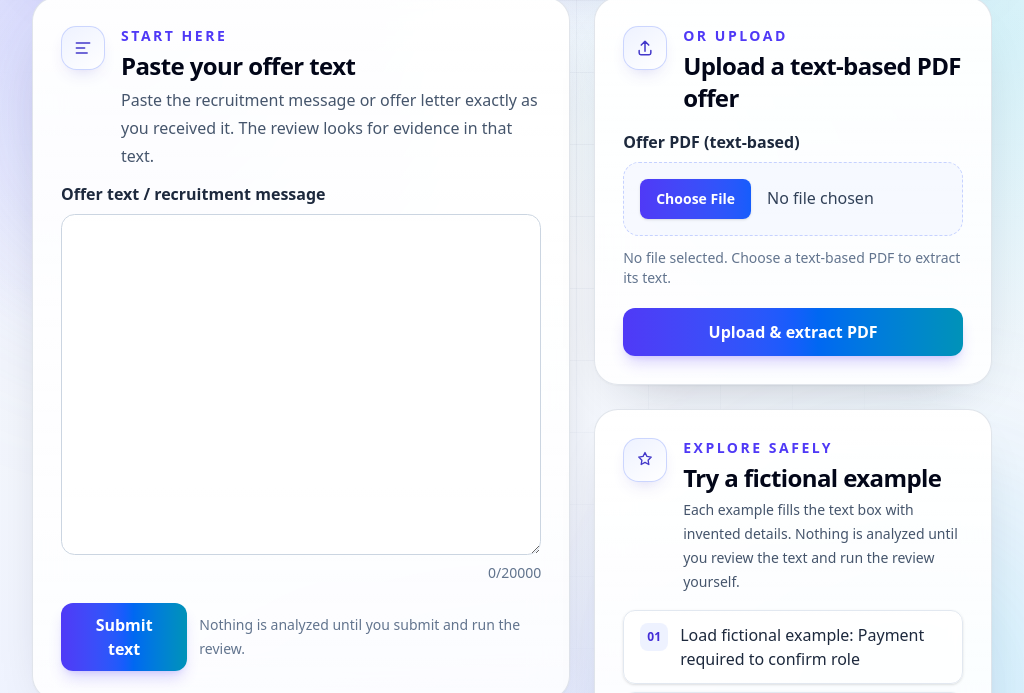
OfferShield review page › groups findings by category and shows the source label
(page scrolled)
In the text box labelled "Offer text / recruitment message": point(301, 385) [61,214,541,555], type "To confirm your acceptance, please pay the registration fee."
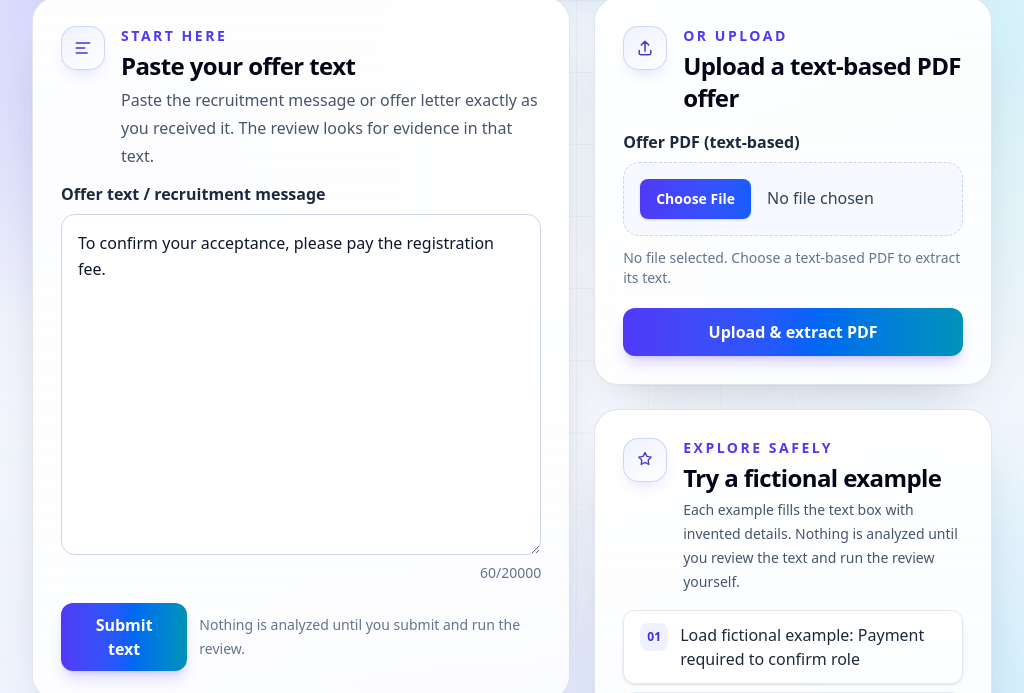
Click the button "Submit text": point(124, 637) [61,603,187,671]
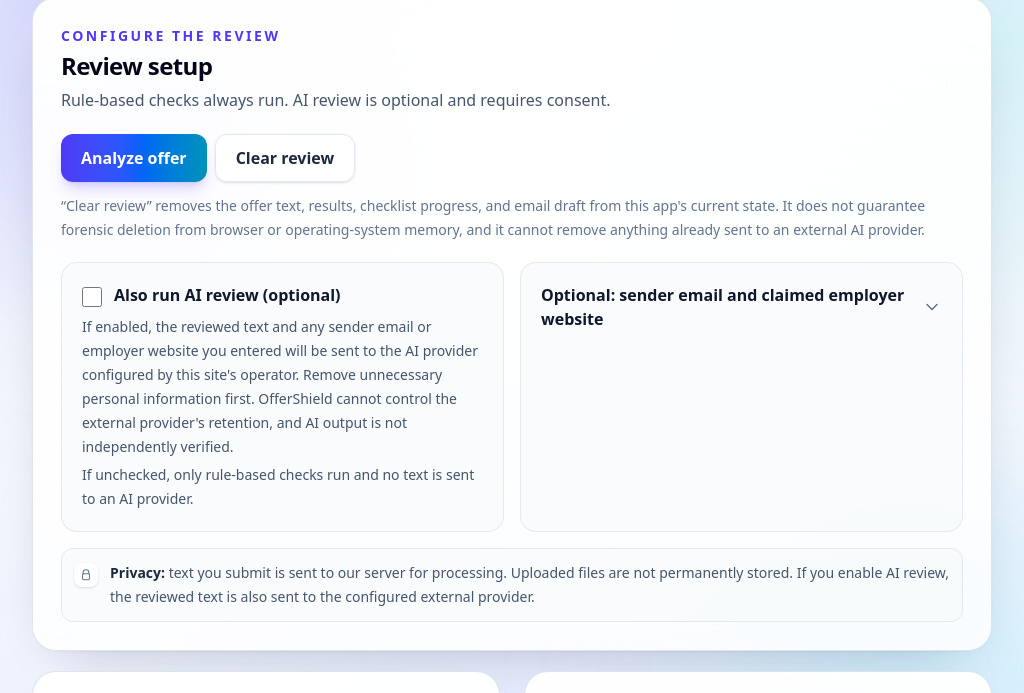
expect the button "Analyze offer" is shown: met
Click the button "Analyze offer": point(134, 158) [61,134,207,182]
(page scrolled)
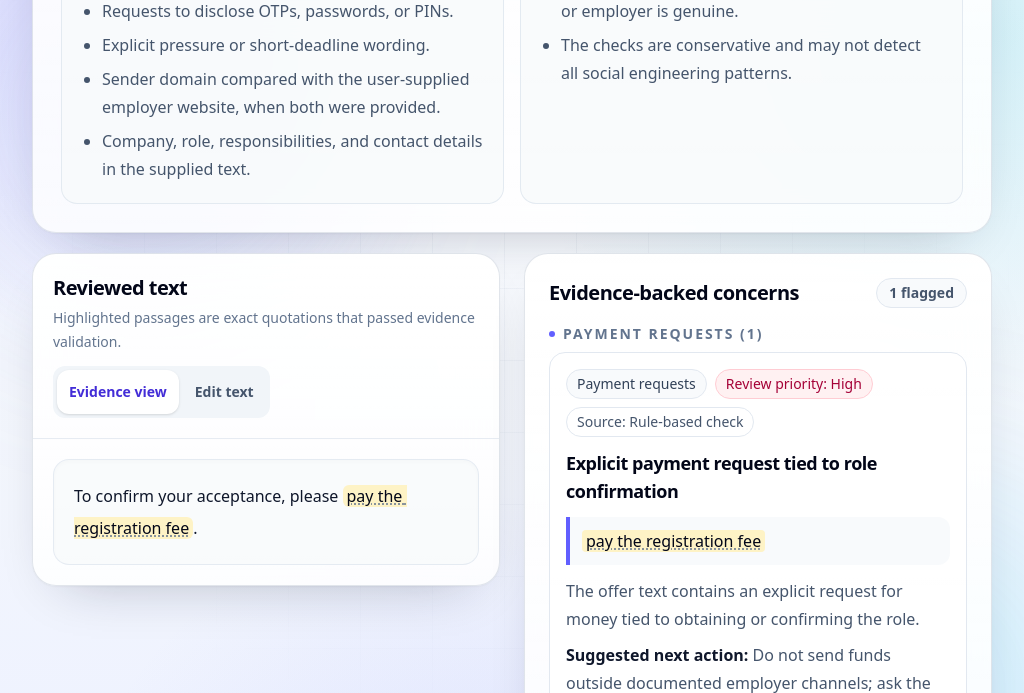
expect the heading "Payment requests (1)" is shown: met, box [549,324,763,343]
expect the text "pay the registration fee" below "Review priority:" is shown: met, box [586,530,761,552]
expect the text "Source: Rule-based check" is shown: met, box [566,407,754,437]
